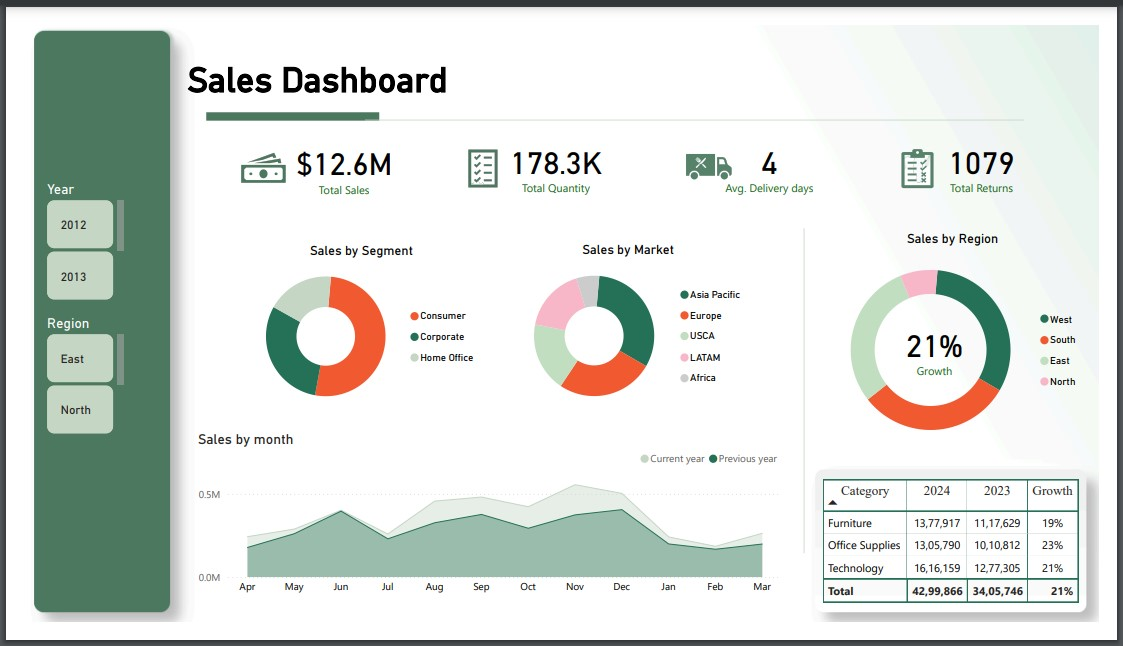

Layout of this report page (visuals, bound fields, positions):
{"tool":"powerbi","page":{"name":"Page 1","canvas":[1300,720],"ordinal":0},"visuals":[{"type":"shape","box":[196.7,21.7,451.7,85],"z":0},{"type":"cardVisual","fields":{"Data":["Sum(Orders.Sales)"]},"box":[258.2,127.5,258.3,86.7],"z":0,"group":"g1"},{"type":"advancedSlicerVisual","fields":{"Values":["Orders.Order Date.Variation.Date Hierarchy.Year"]},"box":[21.7,186.7,103.3,150.1],"z":0,"group":"g7"},{"type":"donutChart","title":"Sales by Region","fields":{"Y":["Sum(Orders.Sales)"],"Category":["Orders.RegionGroup"]},"box":[960,248.3,328.3,270],"z":0,"group":"g6"},{"type":"cardVisual","fields":{"Data":["Sum(Orders.Quantity)"]},"box":[526.9,125.4,233.3,86.9],"z":1000,"group":"g2"},{"type":"advancedSlicerVisual","fields":{"Values":["Orders.RegionGroup"]},"box":[21.7,348.3,103.3,150.1],"z":1000,"group":"g7"},{"type":"areaChart","title":"Sales by month","fields":{"Y":["calcy.Cr_year_sales","calcy.Pr_year_sales"],"Category":["Month sort.Month"]},"box":[204.6,490.4,716.9,206.2],"z":1000},{"type":"cardVisual","fields":{"Data":["Avg(Orders.Delivery days )"]},"box":[784.9,125.1,234.5,88.3],"z":2000,"group":"g3"},{"type":"cardVisual","fields":{"Data":["calcy.GrowthPercentage"]},"box":[1031.6,341.4,140.7,109],"z":2000,"group":"g6"},{"type":"tableEx","fields":{"Values":["Orders.Category","calcy.Cr_year_sales","calcy.Pr_year_sales","calcy.GrowthPercentage"]},"box":[960.5,543.5,323.3,159.3],"z":2000},{"type":"shape","box":[411.7,93.3,798.3,41.7],"z":3000},{"type":"cardVisual","fields":{"Data":["Sum(Returns.Total Returned)"]},"box":[1041.9,125.4,234.5,88.3],"z":3000,"group":"g4"},{"type":"shape","box":[923.3,245,41.7,393.3],"z":4000},{"type":"donutChart","title":"Sales by Market","fields":{"Y":["Sum(Orders.Sales)"],"Category":["Orders.Market"]},"box":[581.4,261.4,300.2,210],"z":4000,"group":"g5"},{"type":"group","id":"g1","title":"Group 1","box":[254,127.5,262.6,86.7],"z":5000},{"type":"donutChart","title":"Sales by Segment","fields":{"Y":["Sum(Orders.Sales)"],"Category":["Orders.Segment"]},"box":[258.3,262.2,300.1,209.1],"z":5000,"group":"g5"},{"type":"group","id":"g2","title":"Group 2","box":[520.2,125.4,240,86.9],"z":6000},{"type":"group","id":"g3","title":"Group 3","box":[783,125.1,236.4,88.3],"z":7000},{"type":"group","id":"g4","title":"Group 4","box":[1038.2,125.4,238.2,88.3],"z":8000},{"type":"group","id":"g5","title":"Group 5","box":[258.3,261.4,623.3,210],"z":9000},{"type":"group","id":"g6","title":"Group 7","box":[960,248.3,328.3,270],"z":10000},{"type":"image","box":[254,141,70,63],"z":10003,"group":"g1"},{"type":"image","box":[520.2,138.7,70,66.7],"z":10004,"group":"g2"},{"type":"image","box":[783,131.4,92.5,69.7],"z":10007,"group":"g3"},{"type":"image","box":[1038.2,142.1,86.7,61.7],"z":10008,"group":"g4"},{"type":"group","id":"g7","title":"Group 6","box":[21.7,186.7,103.3,311.7],"z":11000}]}

Visuals, with their boxes on the page's 1300x720 design canvas (x1, y1, x2, y2). These are canvas units, not pixel positions in the 1123x646 screenshot, which may show the page scaled, cropped or inside an application window:
shape: left=197, top=22, right=648, bottom=107
cardVisual - Sum(Orders.Sales): left=258, top=128, right=516, bottom=214
advancedSlicerVisual - Orders.Order Date.Variation.Date Hierarchy.Year: left=22, top=187, right=125, bottom=337
"Sales by Region" donutChart: left=960, top=248, right=1288, bottom=518
cardVisual - Sum(Orders.Quantity): left=527, top=125, right=760, bottom=212
advancedSlicerVisual - Orders.RegionGroup: left=22, top=348, right=125, bottom=498
"Sales by month" areaChart: left=205, top=490, right=922, bottom=697
cardVisual - Avg(Orders.Delivery days ): left=785, top=125, right=1019, bottom=213
cardVisual - calcy.GrowthPercentage: left=1032, top=341, right=1172, bottom=450
tableEx - Orders.Category x calcy.Cr_year_sales: left=960, top=544, right=1284, bottom=703
shape: left=412, top=93, right=1210, bottom=135
cardVisual - Sum(Returns.Total Returned): left=1042, top=125, right=1276, bottom=214
shape: left=923, top=245, right=965, bottom=638
"Sales by Market" donutChart: left=581, top=261, right=882, bottom=471
"Group 1" group: left=254, top=128, right=517, bottom=214
"Sales by Segment" donutChart: left=258, top=262, right=558, bottom=471
"Group 2" group: left=520, top=125, right=760, bottom=212
"Group 3" group: left=783, top=125, right=1019, bottom=213
"Group 4" group: left=1038, top=125, right=1276, bottom=214
"Group 5" group: left=258, top=261, right=882, bottom=471
"Group 7" group: left=960, top=248, right=1288, bottom=518
image: left=254, top=141, right=324, bottom=204
image: left=520, top=139, right=590, bottom=205
image: left=783, top=131, right=876, bottom=201
image: left=1038, top=142, right=1125, bottom=204
"Group 6" group: left=22, top=187, right=125, bottom=498
